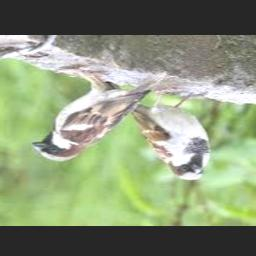Sparrow: (31, 69, 169, 162), (102, 82, 210, 181)
